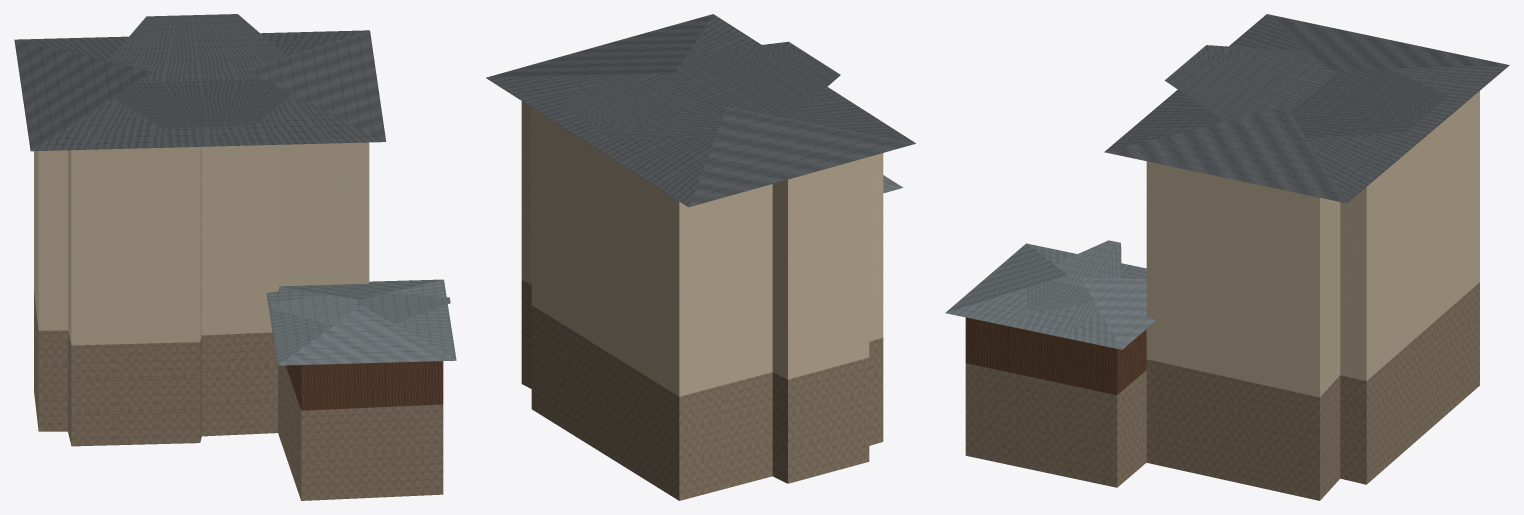
Rendered from bld_c-22_12_545.gltf.
3 renders of one model, left to right at view 1: azimuth 30°, elevation 25°; view 2: azimuth 150°, elevation 25°; view 3: azimuth 270°, elevation 25°, orthographic. The views are drawn at different scales.
Visible parts, largest first — view 1: bld_c-22_12_545; view 2: bld_c-22_12_545; view 3: bld_c-22_12_545.
Boxes of the visible parts, x1=… form: bld_c-22_12_545: x1=14, y1=14, x2=456, y2=500; bld_c-22_12_545: x1=486, y1=14, x2=915, y2=500; bld_c-22_12_545: x1=945, y1=14, x2=1509, y2=500.
Bounding box in the file's own units: 20.01 × 16.2 × 25.22.
Materials: 5 (5 with a texture image).
